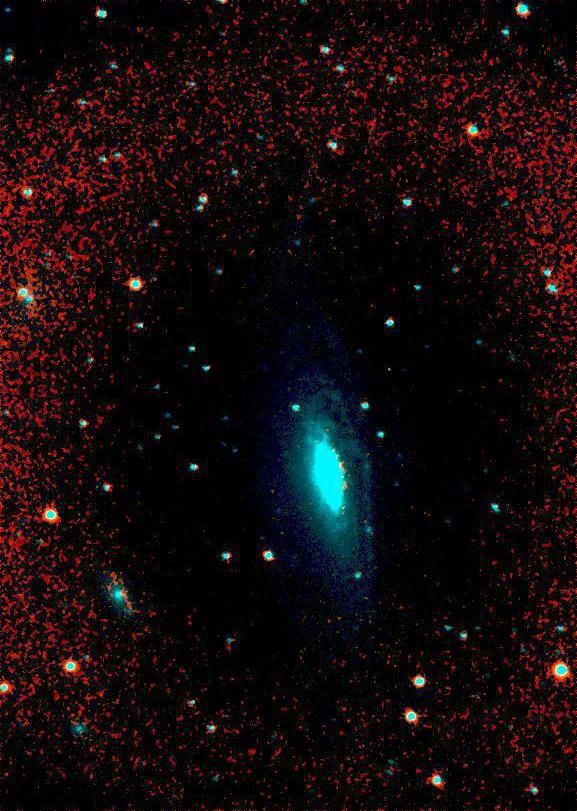star: (283, 496, 313, 526)
